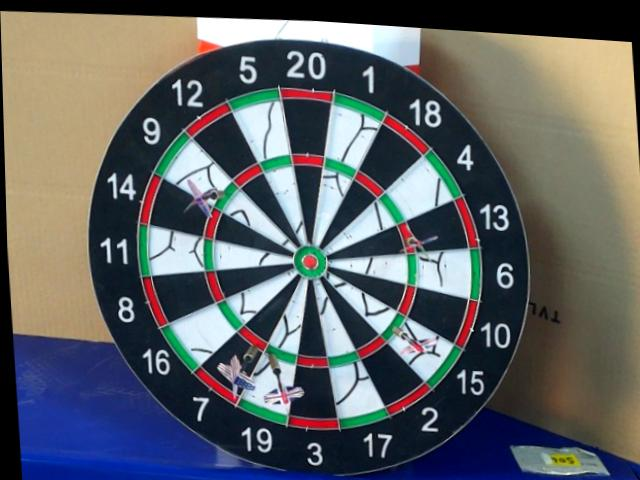triple_13: (401, 226, 421, 248)
triple_15: (383, 315, 405, 340)
triple_19: (272, 348, 297, 365)
triple_7: (239, 328, 267, 351)
triple_9: (208, 183, 238, 212)
